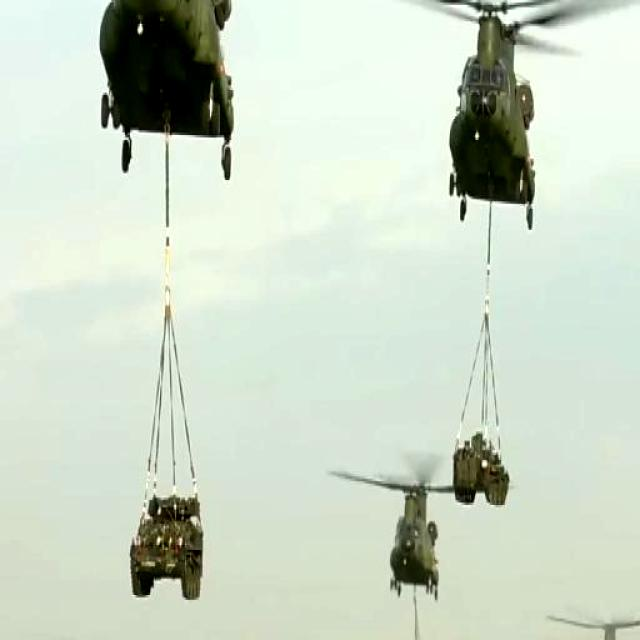drone: (0, 0, 476, 180), (301, 0, 640, 234), (302, 451, 520, 614), (549, 600, 640, 640)
